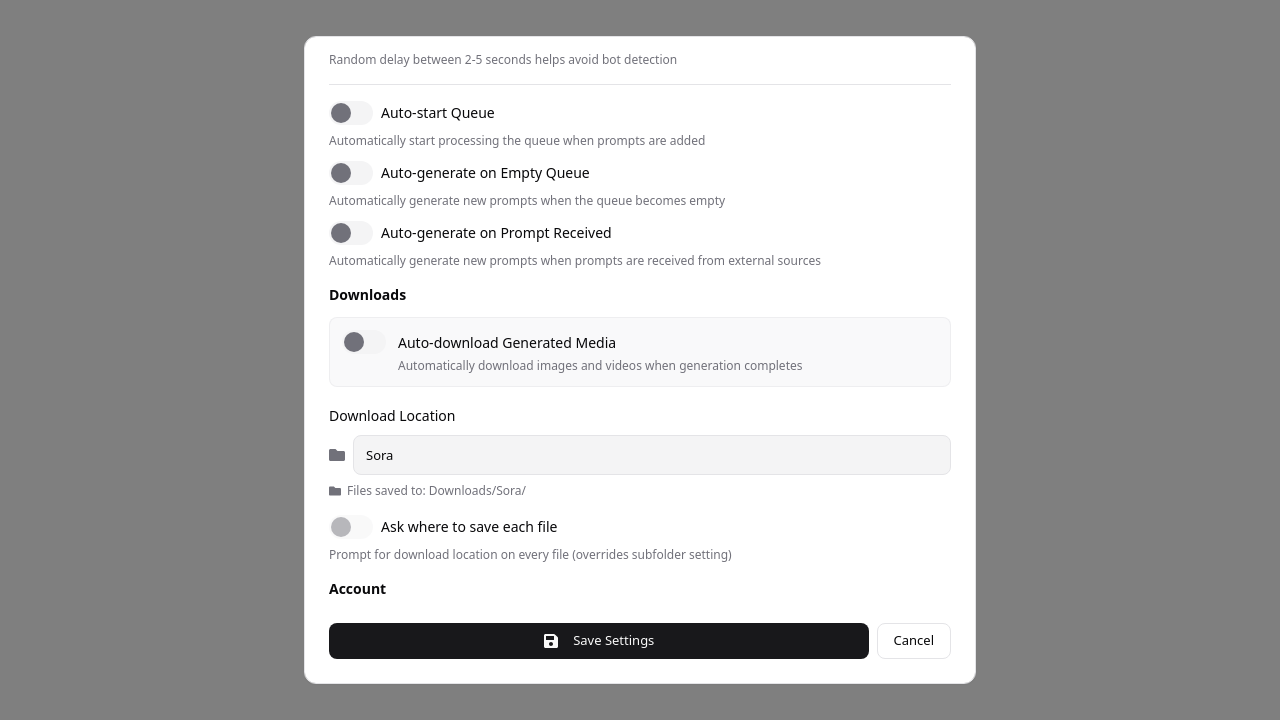
Test: SettingsDialog › should show success message after saving
(page scrolled)
What coordinates should you click on to do the following:
click the button "Save Settings"
I would click on:
 (599, 641)
Its box is x1=329 y1=623 x2=868 y2=659.
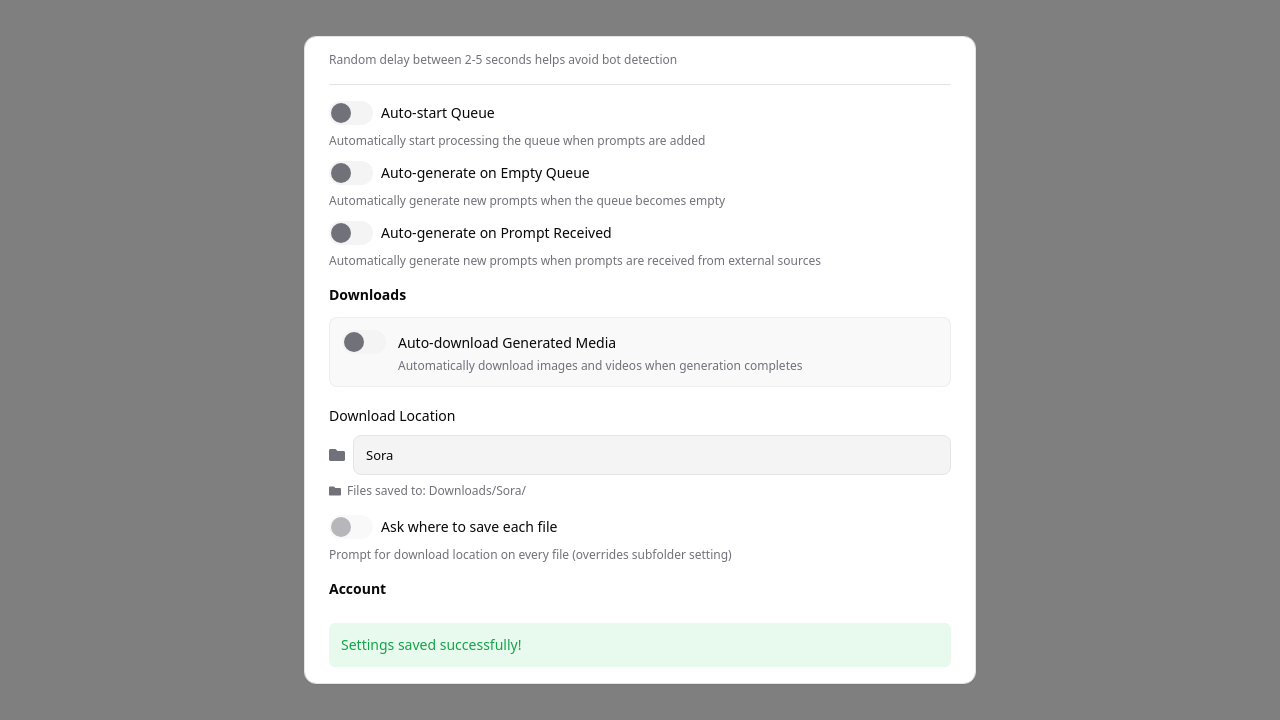
Now the text "Settings saved successfully!" is shown, box x1=329 y1=623 x2=951 y2=667
